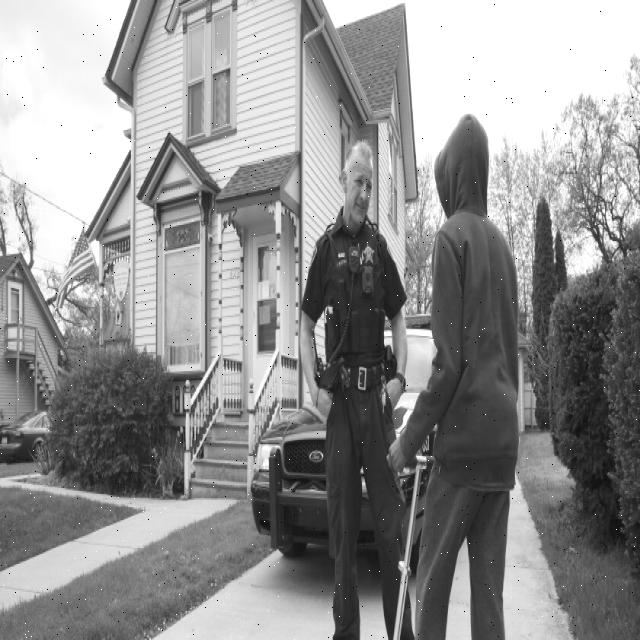police: (304, 126, 418, 637)
